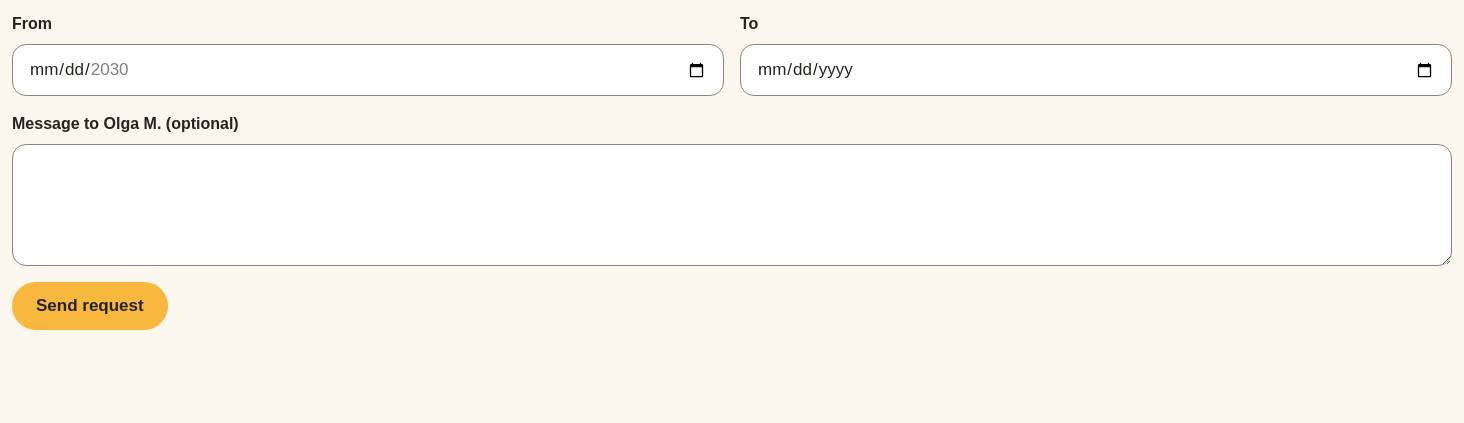
Test: RequestLoanForm › formError itemLimit reads its sentence
The image size is (1464, 423).
What coordinates should you click on to do the following:
click the button "Send request"
I would click on:
 (90, 306)
Its box is x1=12 y1=282 x2=168 y2=330.
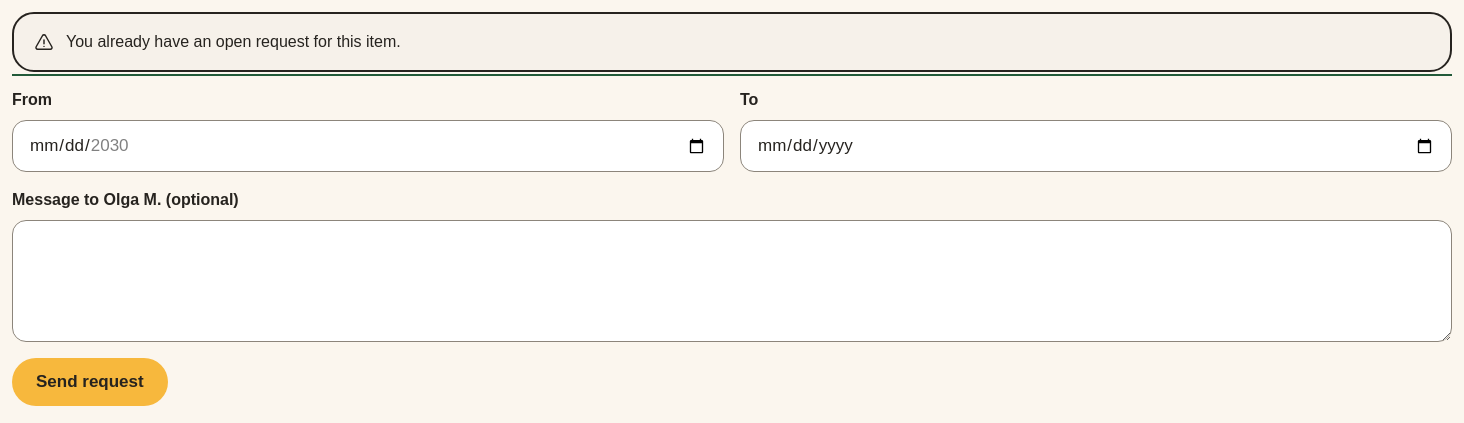
Check: the text "You already have an open request for this item." is shown, box x1=66 y1=33 x2=401 y2=50
